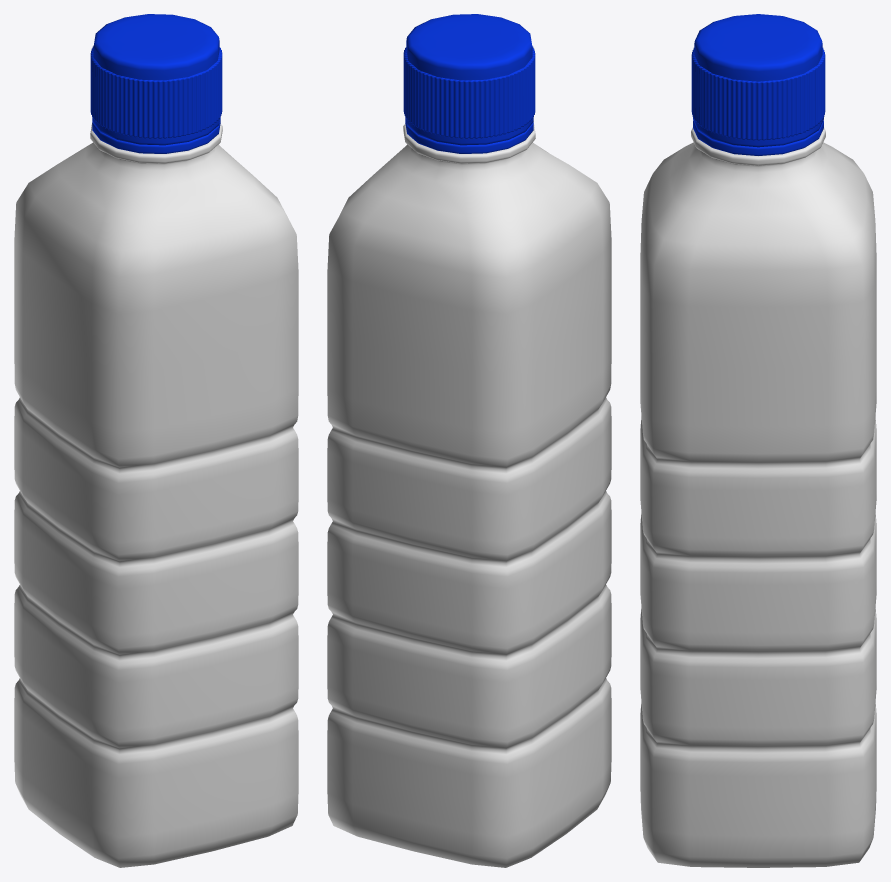
Rendered from bottle.glb.
The picture shows the model from 3 angles, left to right: view 1: azimuth 30°, elevation 25°; view 2: azimuth 150°, elevation 25°; view 3: azimuth 270°, elevation 25°; orthographic projection.
Visible parts, largest first — view 1: Bình Nước.002; view 2: Bình Nước.002; view 3: Bình Nước.002.
Part boxes in pixels (x1,y1,x2,y2): Bình Nước.002: [14, 14, 298, 867]; Bình Nước.002: [327, 14, 611, 867]; Bình Nước.002: [640, 14, 876, 867].
Bounding box in the file's own units: 0.6047 × 2.22 × 0.6047.
